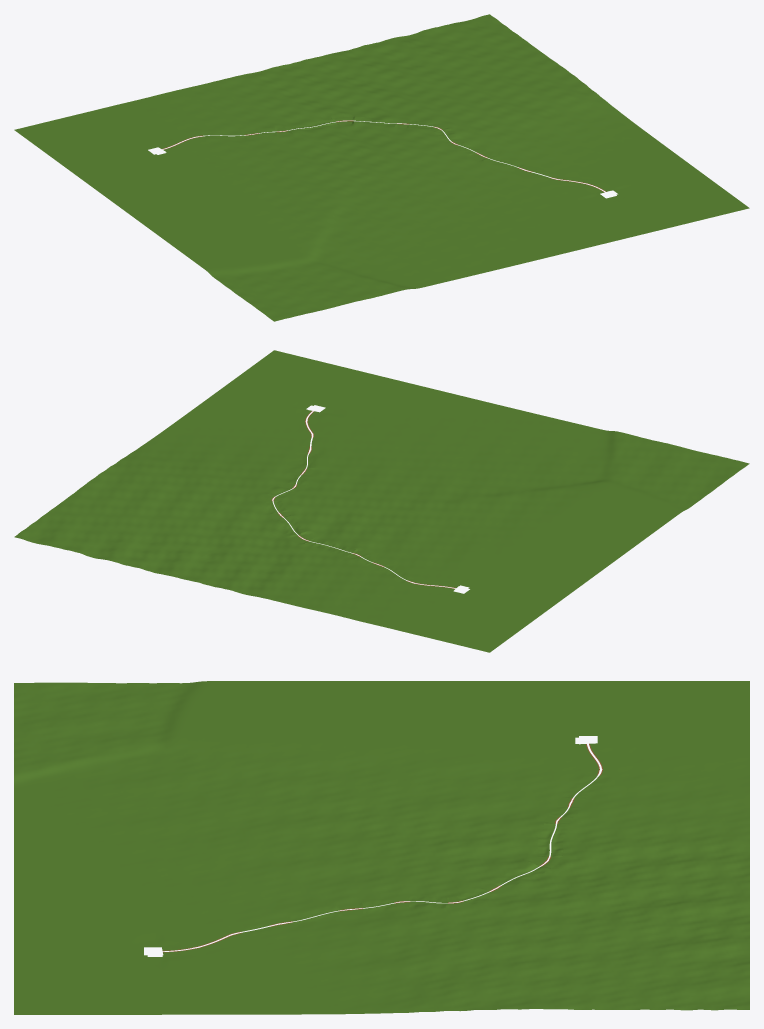
Rendered from terrain.glb.
3 renders of one model, top to bottom at view 1: azimuth 30°, elevation 25°; view 2: azimuth 150°, elevation 25°; view 3: azimuth 270°, elevation 25°, orthographic. The views are drawn at different scales.
Visible parts, largest first — view 1: Terrain_Far; view 2: Terrain_Far; view 3: Terrain_Far.
Part boxes in pixels (x1=…): Terrain_Far: x1=14, y1=14, x2=749, y2=321; Terrain_Far: x1=14, y1=350, x2=749, y2=652; Terrain_Far: x1=14, y1=681, x2=749, y2=1014.
Bounding box in the file's own units: 10450 × 89.95 × 9900.
